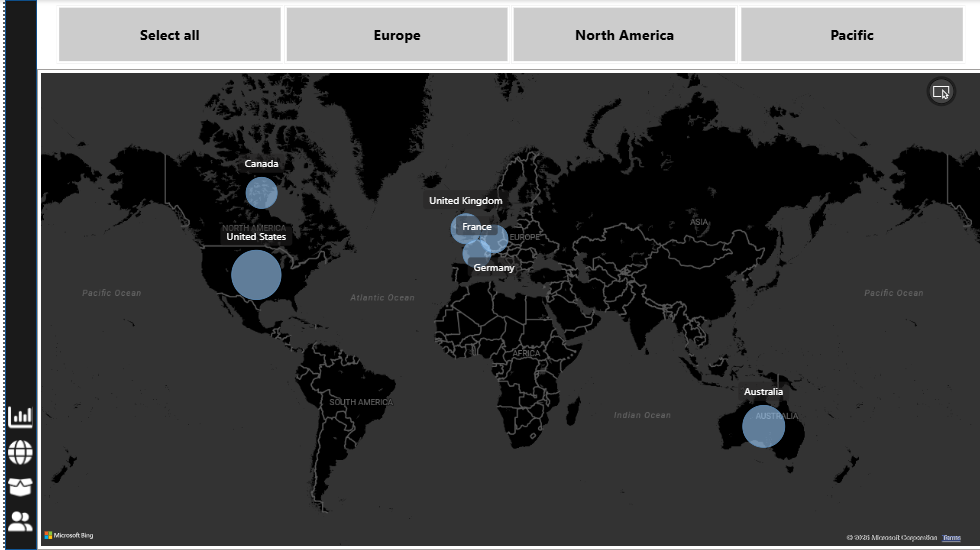

What the dashboard file says about the page in this screenshot:
{"tool":"powerbi","page":{"name":"Map","canvas":[1280,720],"ordinal":1},"visuals":[{"type":"shape","title":"LEFT NAV BACKGROUND","box":[0,0,42,720],"z":0},{"type":"actionButton","box":[0,526.7,41.7,40],"z":0,"group":"g1"},{"type":"map","fields":{"Size":["Measure Table.Total orders"],"Category":["Territory Lookup.Country"]},"box":[41.4,90,1238.6,630],"z":1000},{"type":"actionButton","box":[0,572.3,41.7,40],"z":1000,"group":"g1"},{"type":"slicer","fields":{"Values":["Territory Lookup.Continent"]},"box":[41.4,0,1238.6,90],"z":2000},{"type":"actionButton","box":[0,663.4,41.7,40],"z":2000,"group":"g1"},{"type":"group","id":"g1","title":"Navigation Buttons","box":[0,526.7,41.7,176.7],"z":3000},{"type":"actionButton","box":[0,617.8,41.7,40],"z":3000,"group":"g1"}]}

Visuals, with their boxes in screenshot pixels (x1, y1, x2, y2):
"LEFT NAV BACKGROUND" shape: region(3, 3, 34, 546)
actionButton: region(3, 400, 34, 430)
map - Measure Table.Total orders x Territory Lookup.Country: region(34, 71, 969, 546)
actionButton: region(3, 435, 34, 465)
slicer - Territory Lookup.Continent: region(34, 3, 969, 71)
actionButton: region(3, 503, 34, 534)
"Navigation Buttons" group: region(3, 400, 34, 534)
actionButton: region(3, 469, 34, 499)
